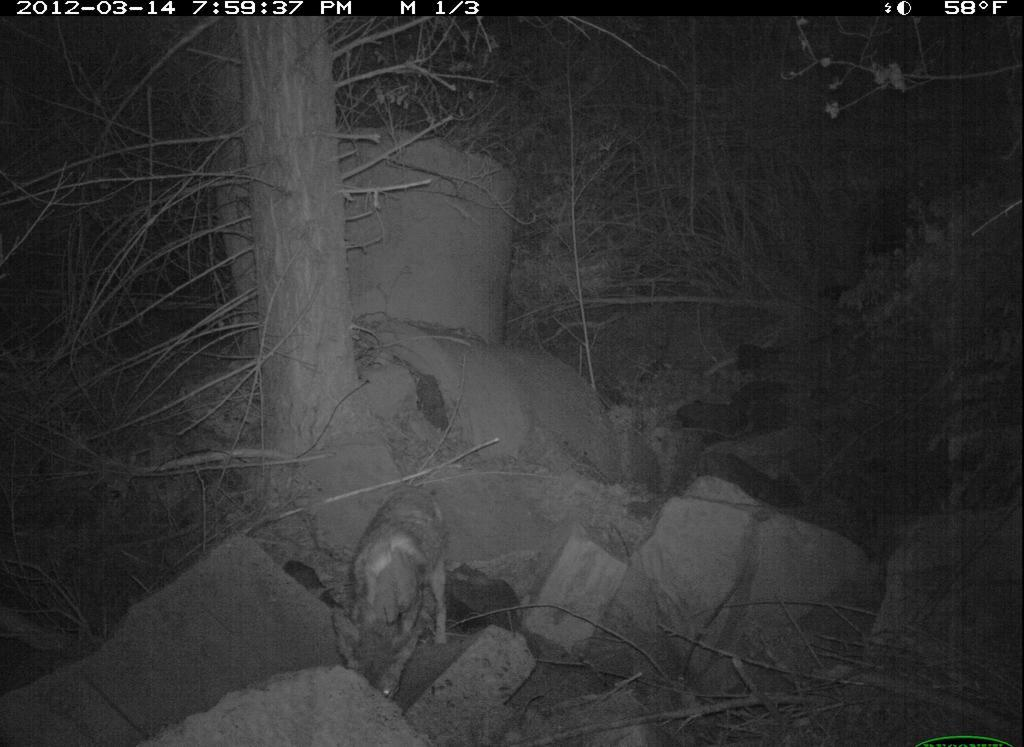coyote: (333, 481, 468, 705)
